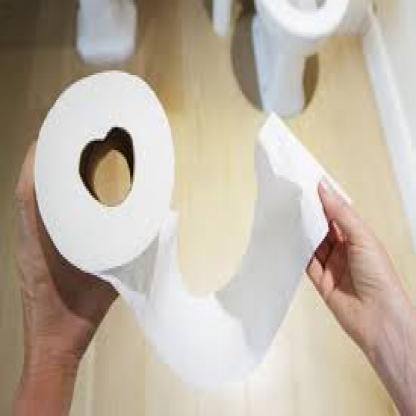tissue: (34, 64, 186, 288)
